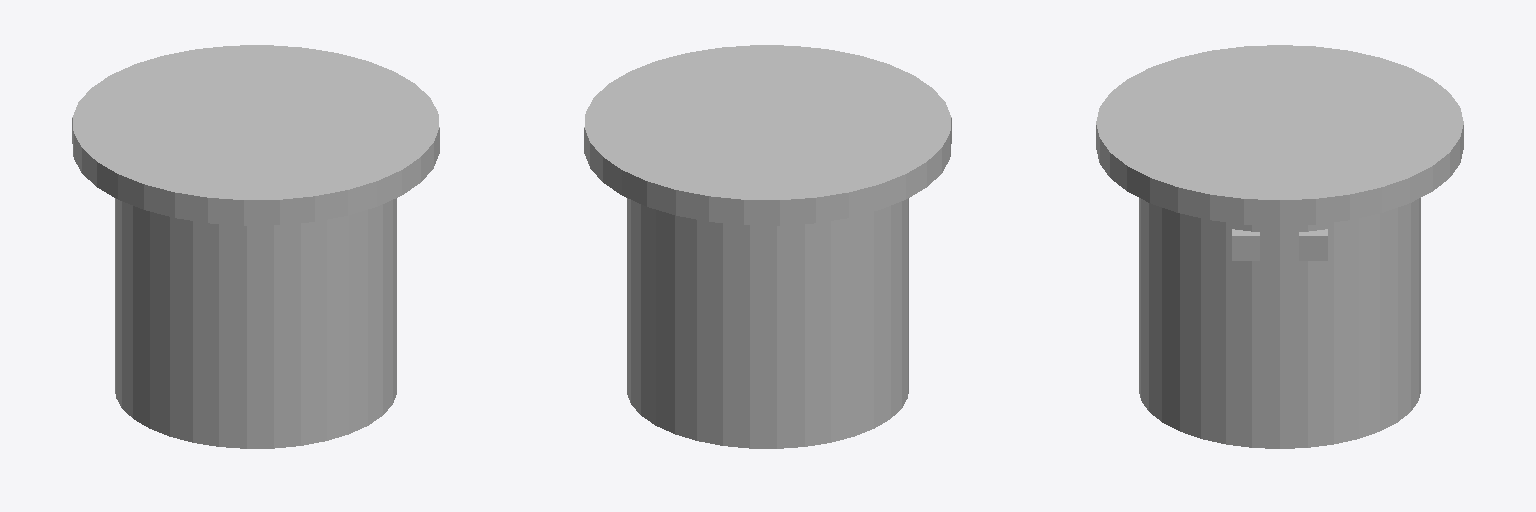
The model's file is MushroomPartToColor.obj.
3 views of the same model, side by side, from view 1: azimuth 30°, elevation 25°; view 2: azimuth 150°, elevation 25°; view 3: azimuth 270°, elevation 25° (orthographic).
Parts seen in each view (by area): view 1: Cylinder, Cylinder.001; view 2: Cylinder, Cylinder.001; view 3: Cylinder, Cylinder.001.
Part boxes in pixels (bbox=[...]): Cylinder: bbox=[115, 198, 396, 448]; Cylinder.001: bbox=[72, 45, 439, 225]; Cylinder: bbox=[627, 198, 908, 448]; Cylinder.001: bbox=[584, 45, 951, 225]; Cylinder: bbox=[1139, 198, 1420, 448]; Cylinder.001: bbox=[1096, 45, 1463, 225].
Bounding box in the file's own units: 2.6 × 2.08 × 2.6.